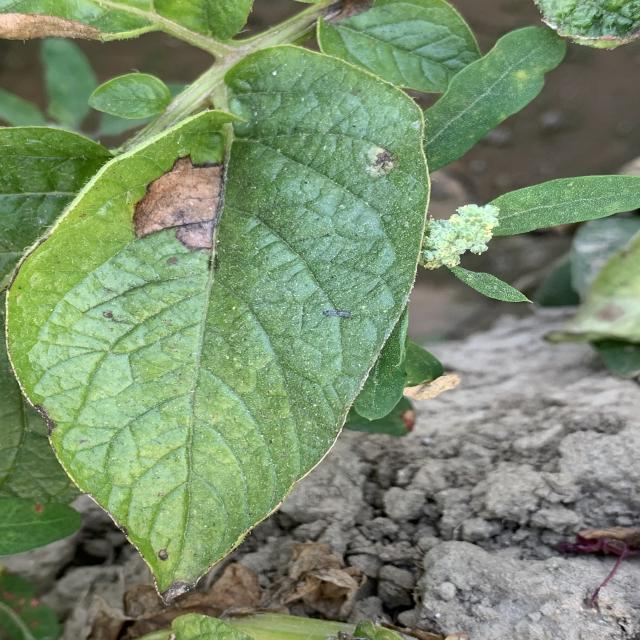lateblight: (133, 158, 222, 250)
